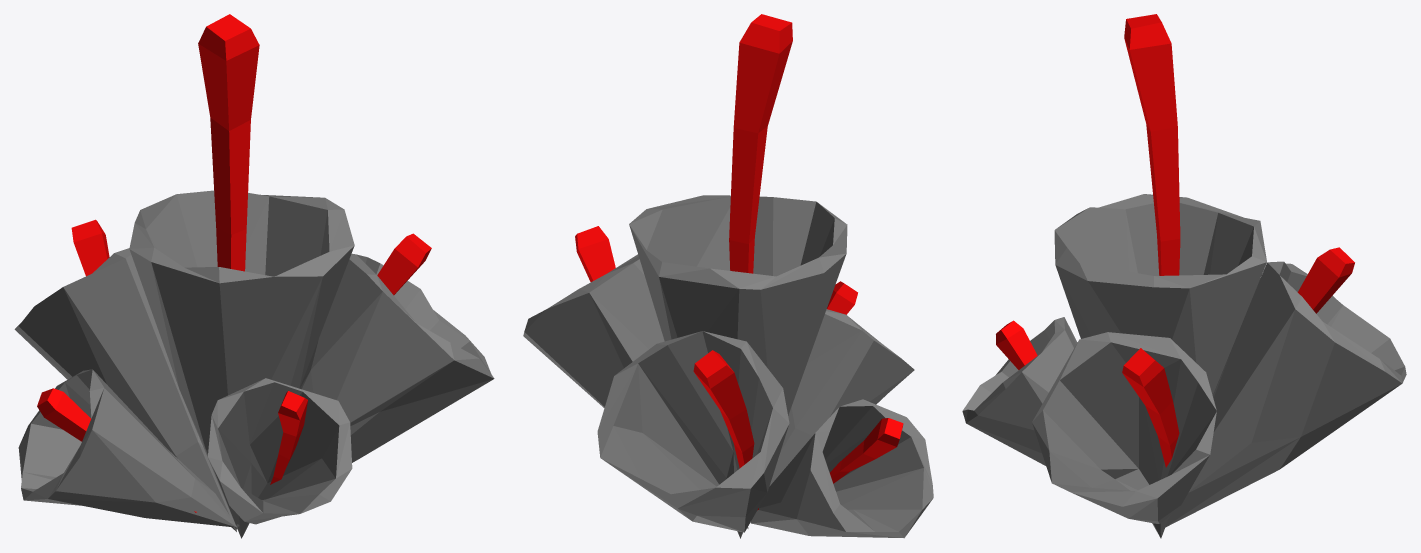
The model's file is FungiCone03.fbx.
3 views of the same model, side by side, from view 1: azimuth 30°, elevation 25°; view 2: azimuth 150°, elevation 25°; view 3: azimuth 270°, elevation 25° (orthographic). The views are drawn at different scales.
Visible parts, largest first — view 1: FungiCone03; view 2: FungiCone03; view 3: FungiCone03.
Boxes of the visible parts, x1,y1,x2,y2 form: FungiCone03: (14, 14, 494, 538); FungiCone03: (523, 14, 933, 538); FungiCone03: (962, 14, 1406, 538).
Size of the model in its own units: 57.01 by 68.43 by 53.87.
